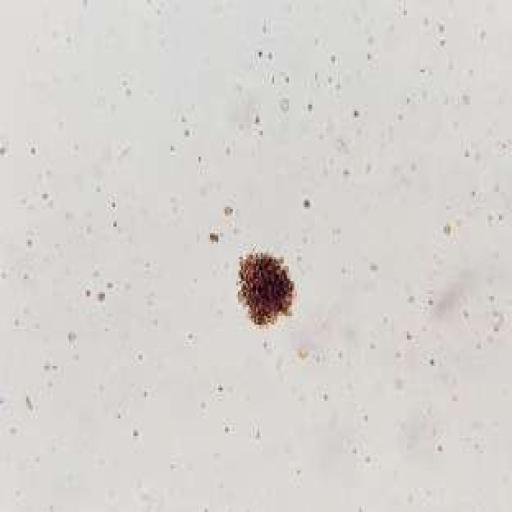CFU-E: (238, 253, 294, 325)
